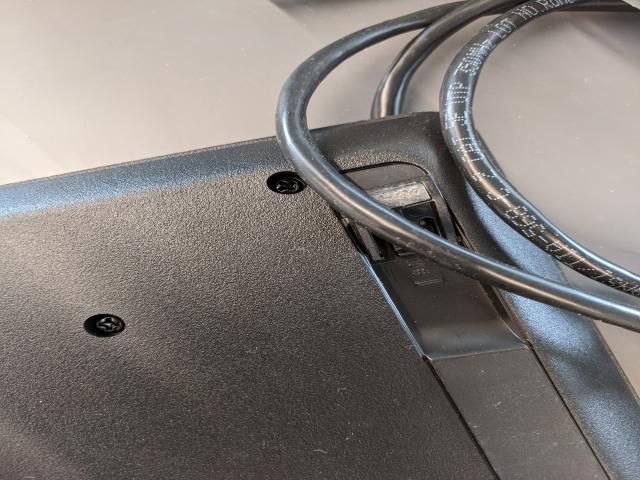CRS: (263, 172, 311, 197), (86, 311, 128, 336)
